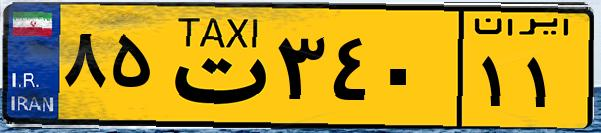0: (385, 28, 445, 110)
1: (475, 38, 525, 113), (525, 38, 570, 115)
3: (270, 28, 330, 110)
4: (330, 28, 385, 110)
5: (110, 28, 158, 98)
8: (57, 26, 110, 100)
ت: (158, 12, 270, 120)
